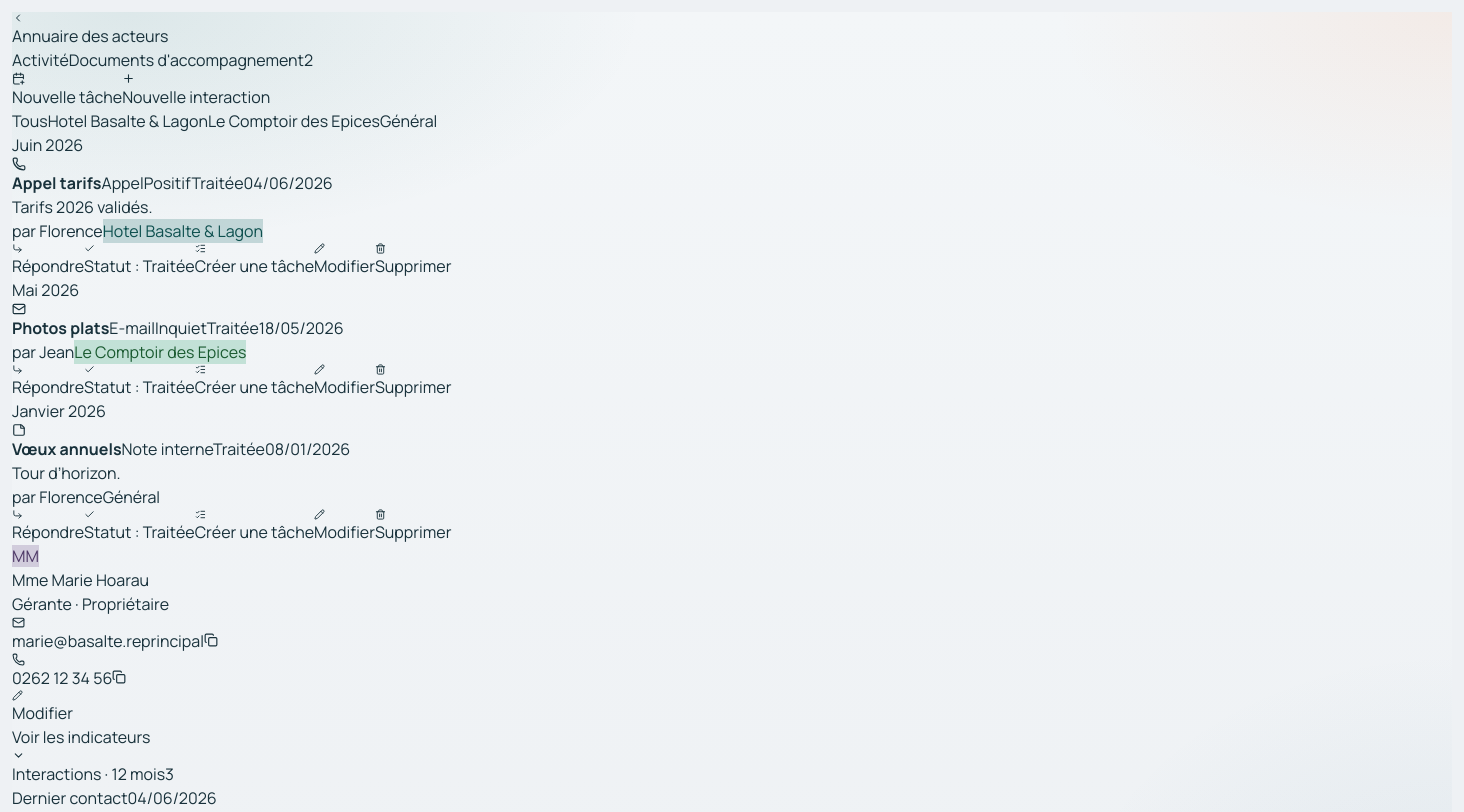
CrmActorFiche (§61 — fiche acteur 360°) › taille : 2048 → « 2 Ko » dans la méta ; 0 (sentinelle SQL) → aucun segment de taille
This screenshot has width=1464, height=812.
Click the tab "Documents d'accompagnement2". click: (191, 60)
box: [69,48,313,72]
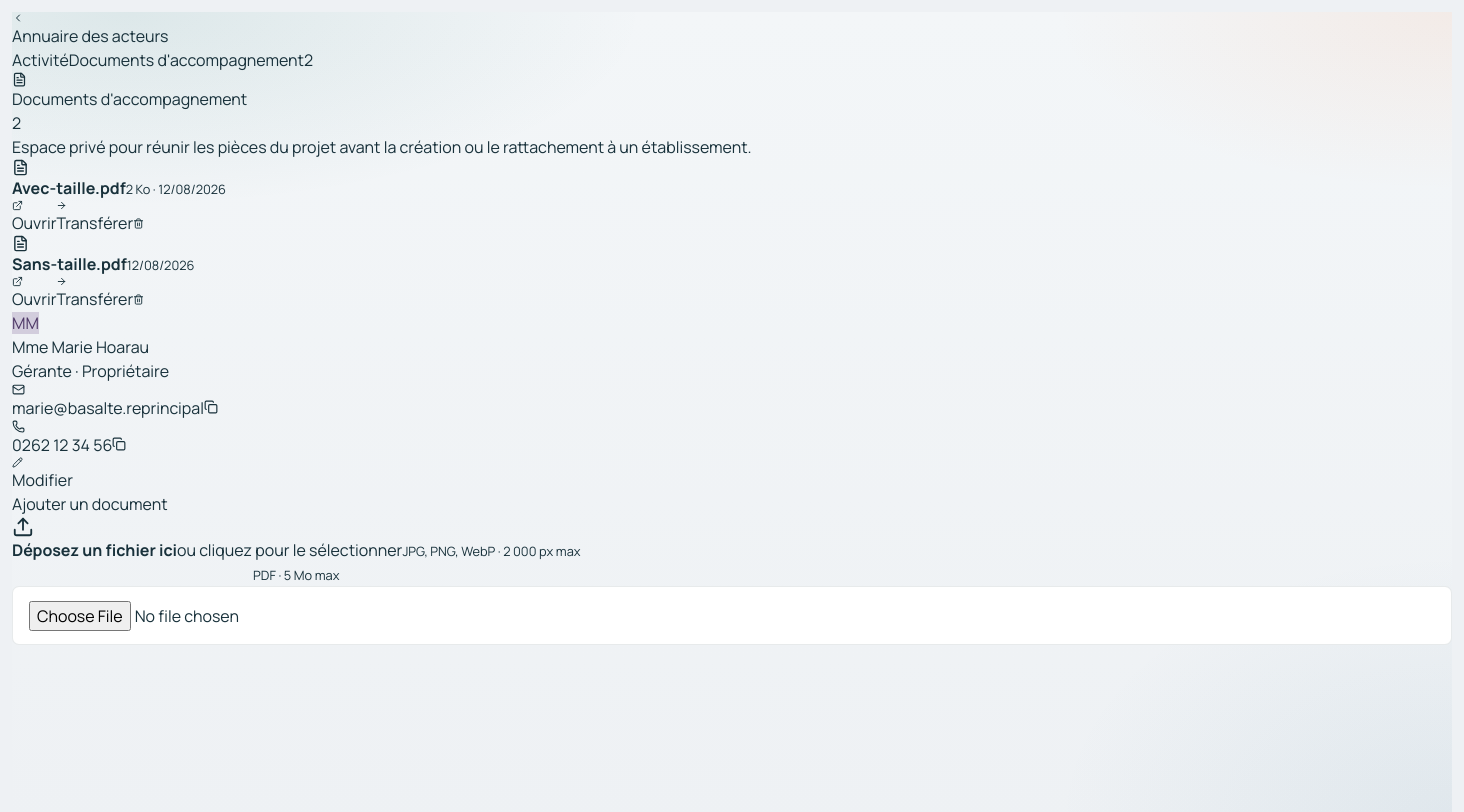
Check: the text "2 Ko · 12/08/2026" is shown, box [126,180,226,198]
Check: the text "12/08/2026" is shown, box [127,256,194,274]
